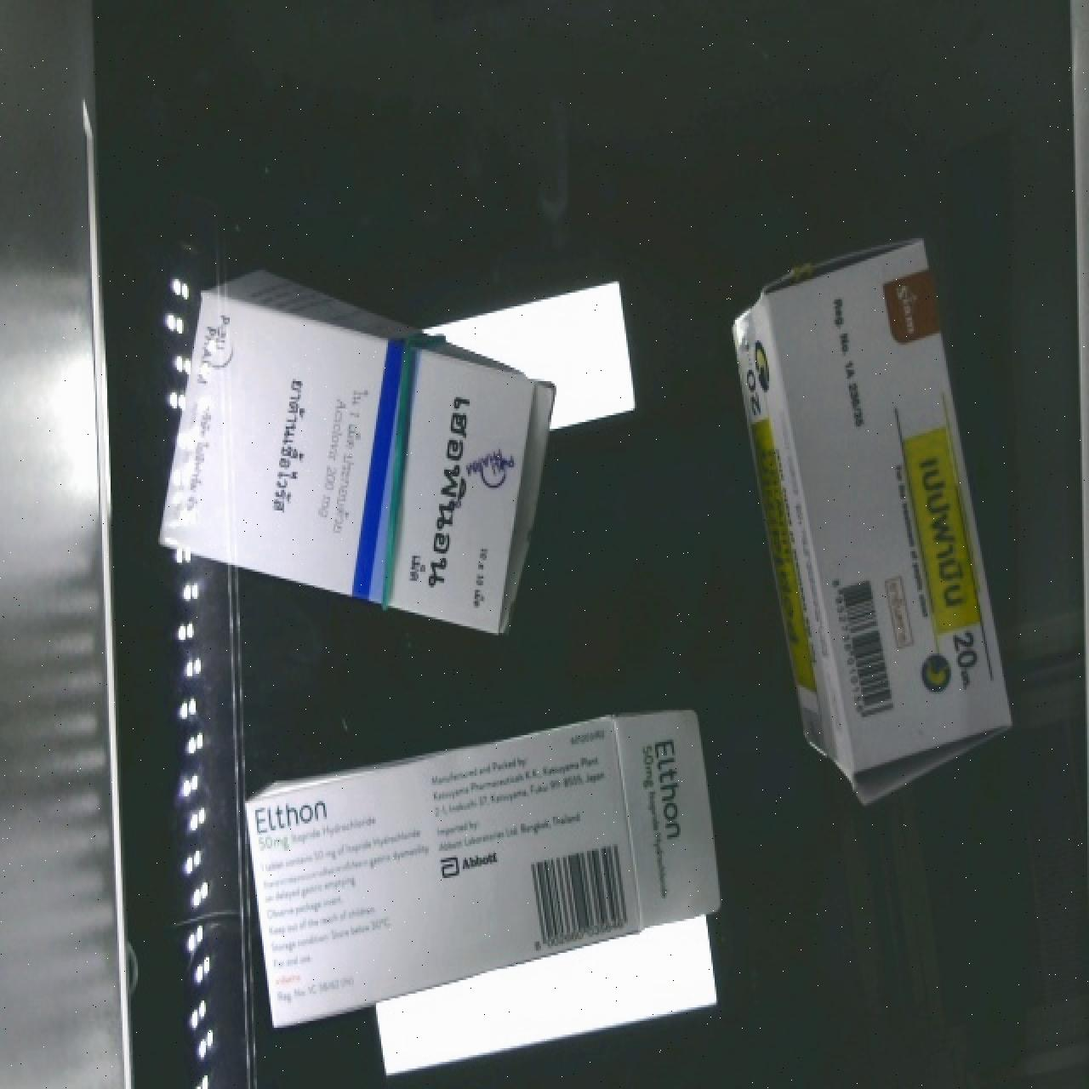medicine_label_obb: (900, 422, 1000, 708), (397, 361, 503, 624), (243, 775, 354, 844)
